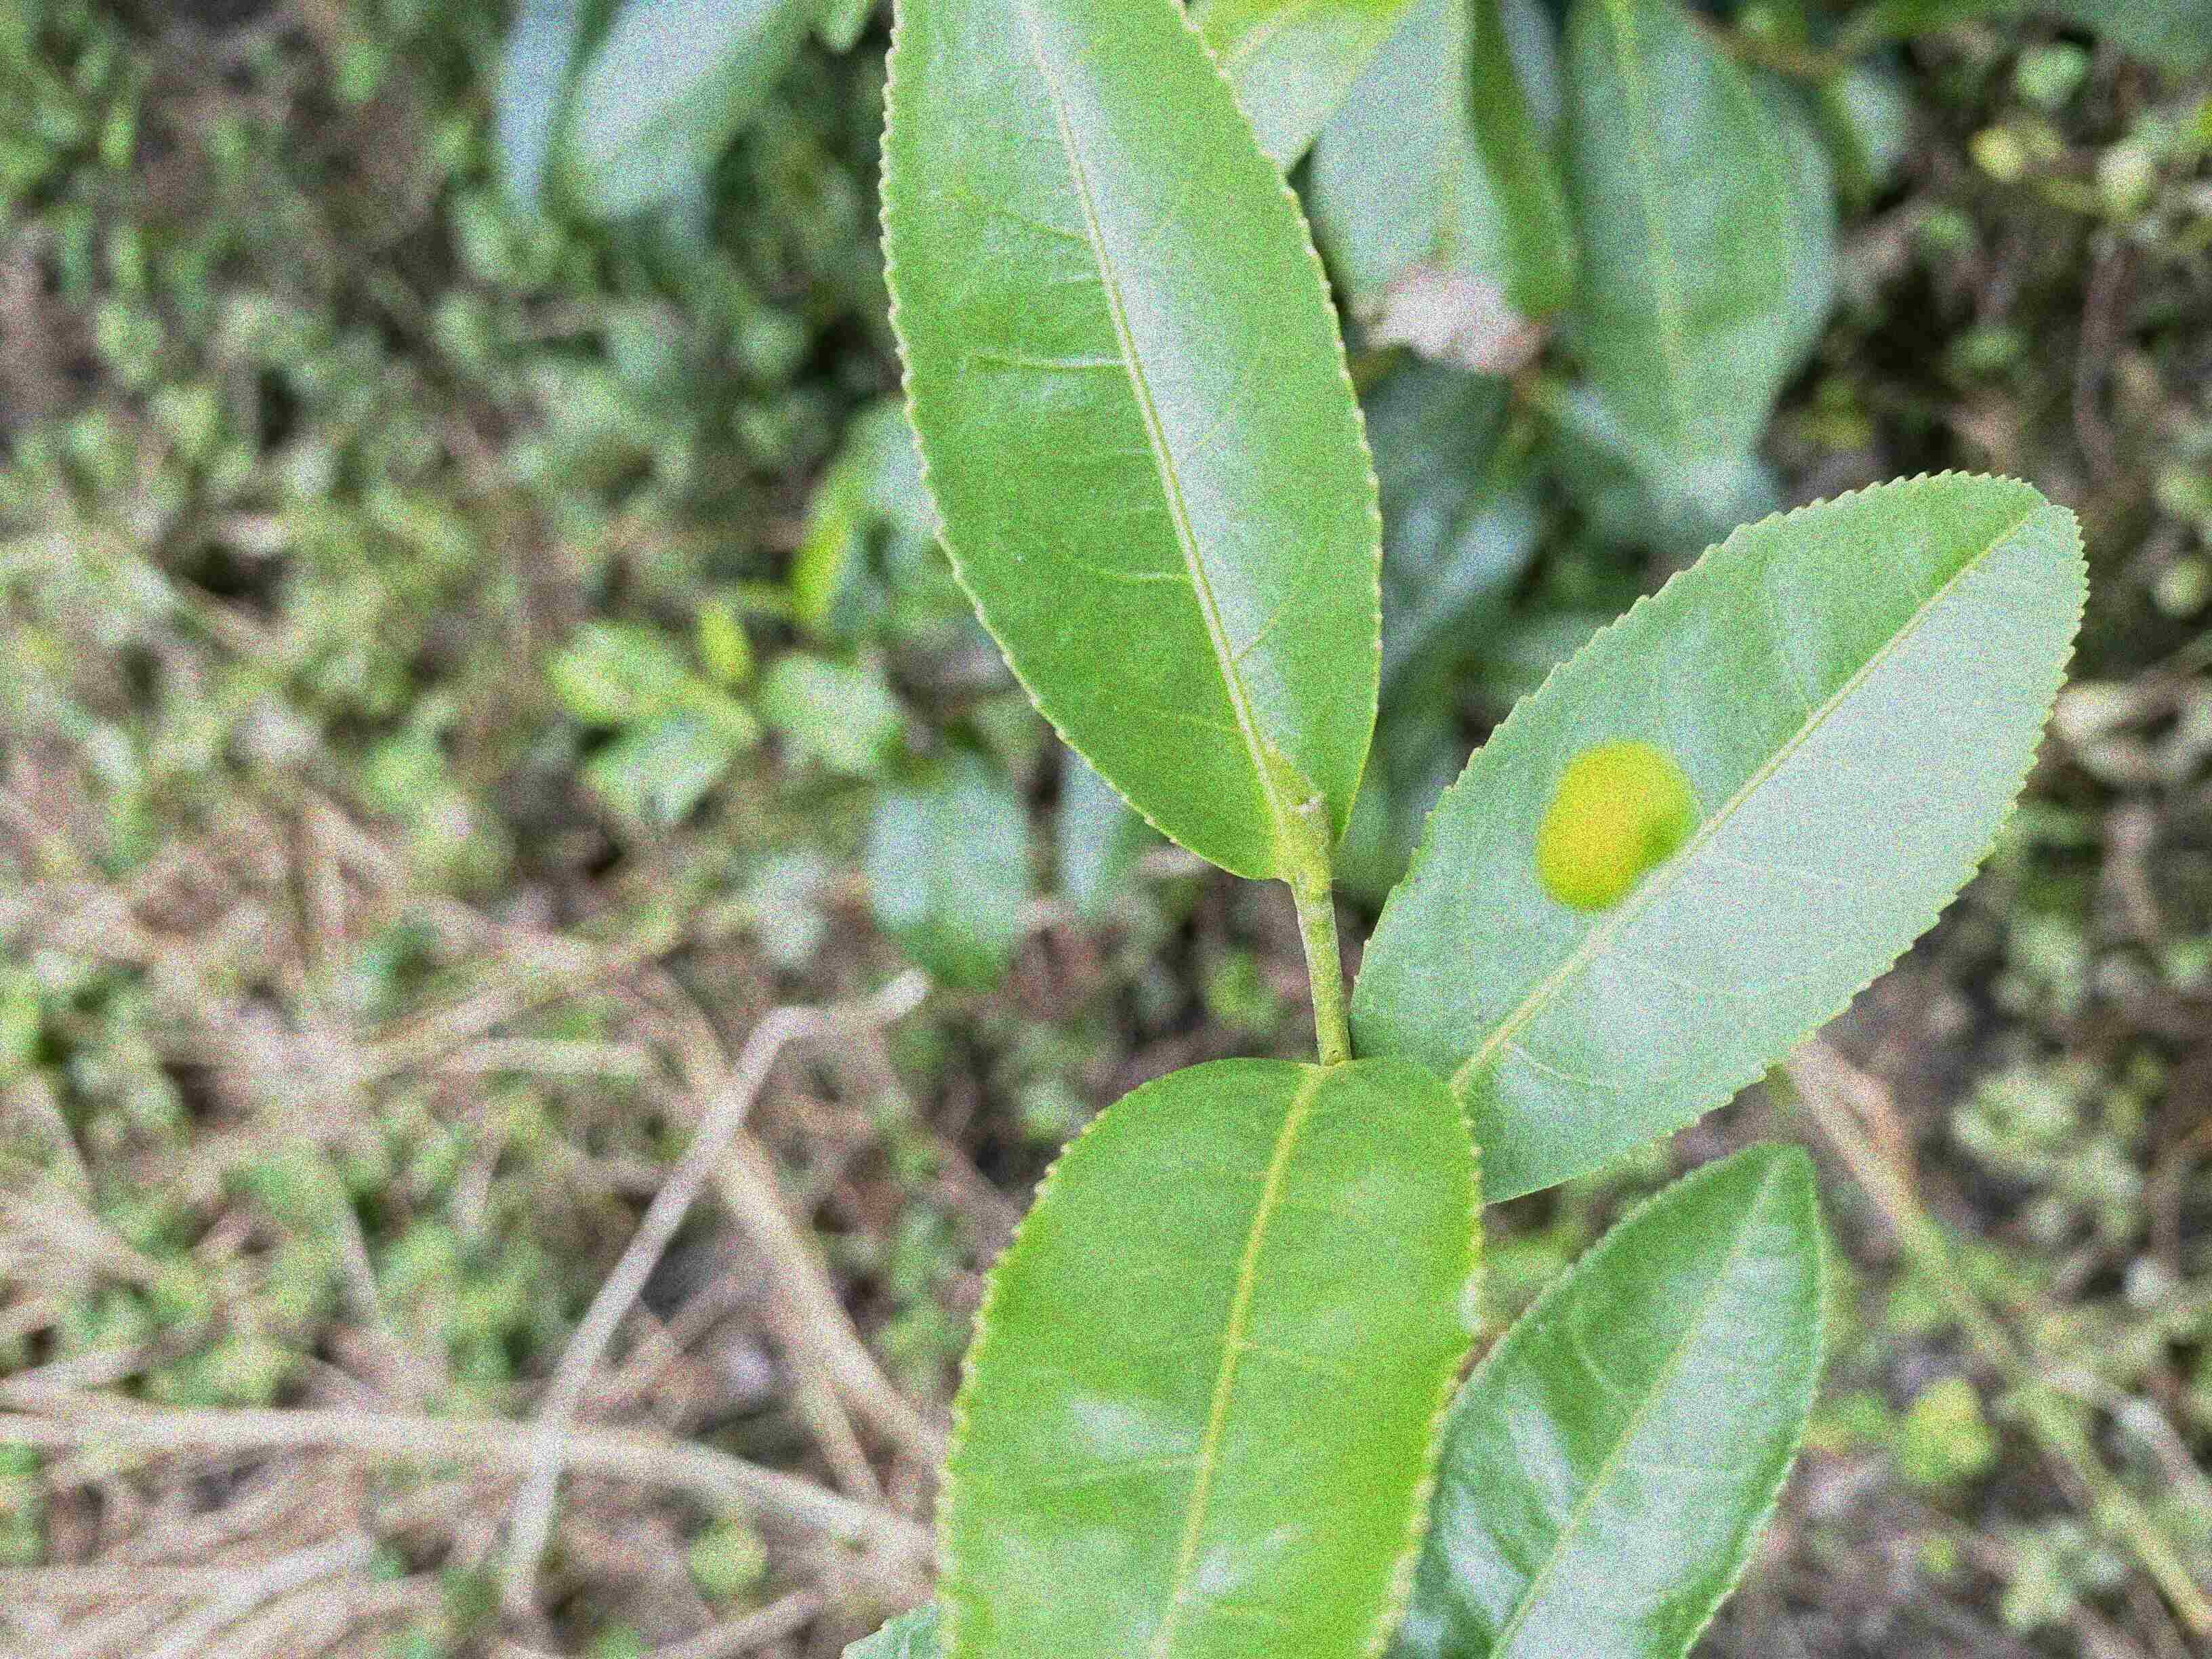chabing_low: (1350, 469, 2094, 1208)
healthy: (874, 3, 1388, 882), (932, 1054, 1486, 1659), (1390, 1140, 1834, 1654)
